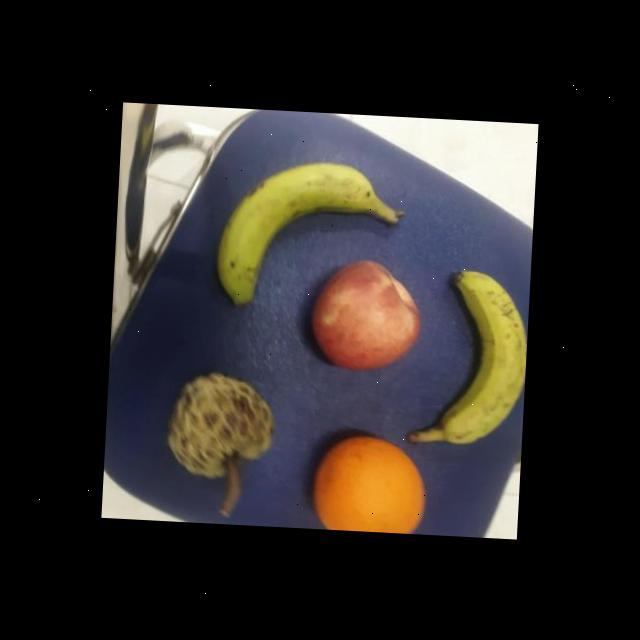Sakya fruit: (163, 366, 280, 484)
apple: (308, 256, 428, 378)
banana: (214, 150, 404, 312), (422, 263, 531, 452)
orange: (308, 426, 430, 534)
